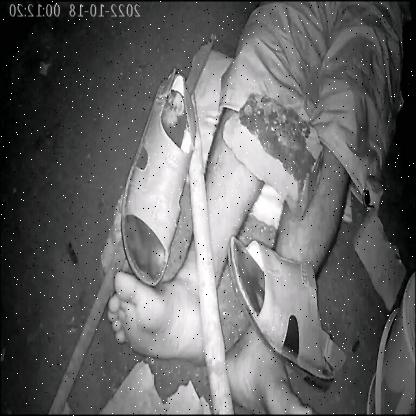leg: (99, 144, 265, 379)
